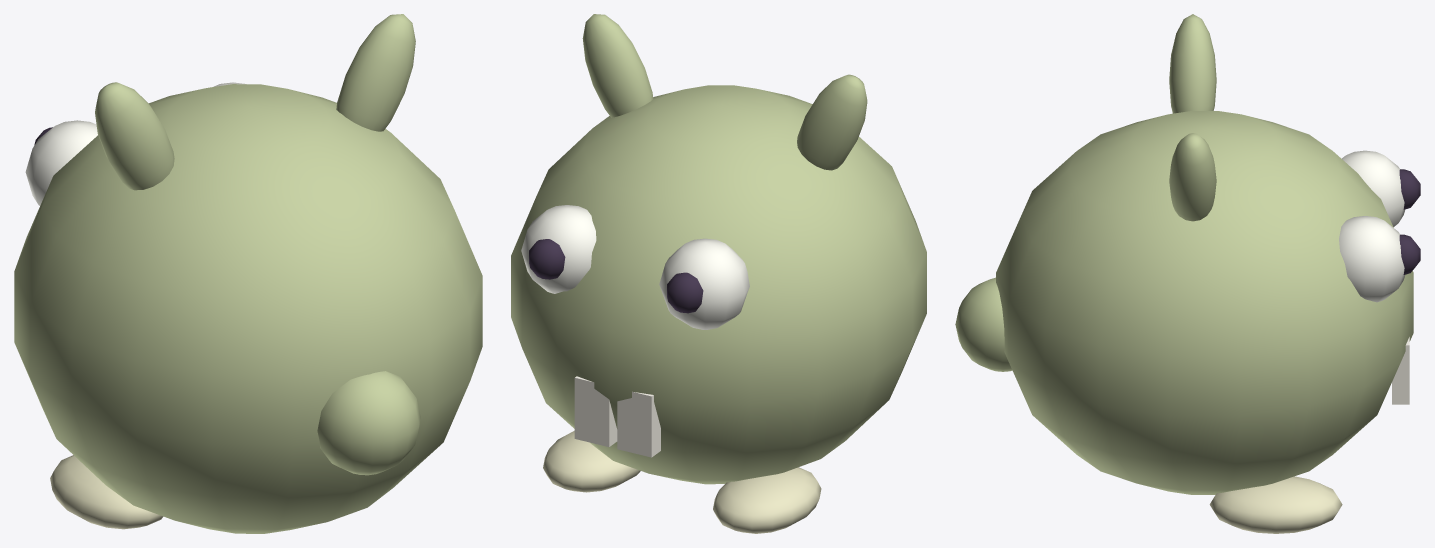
File: muncher.glb
3 renders of one model, left to right at view 1: azimuth 30°, elevation 25°; view 2: azimuth 150°, elevation 25°; view 3: azimuth 270°, elevation 25°, orthographic. The views are drawn at different scales.
Visible parts, largest first — view 1: MU_Body; view 2: MU_Body; view 3: MU_Body.
Part boxes in pixels (x1,y1,x2,y2): MU_Body: (14, 14, 482, 533); MU_Body: (511, 14, 926, 533); MU_Body: (955, 14, 1420, 533).
Bounding box in the file's own units: 0.6595 × 0.7615 × 0.7833.
